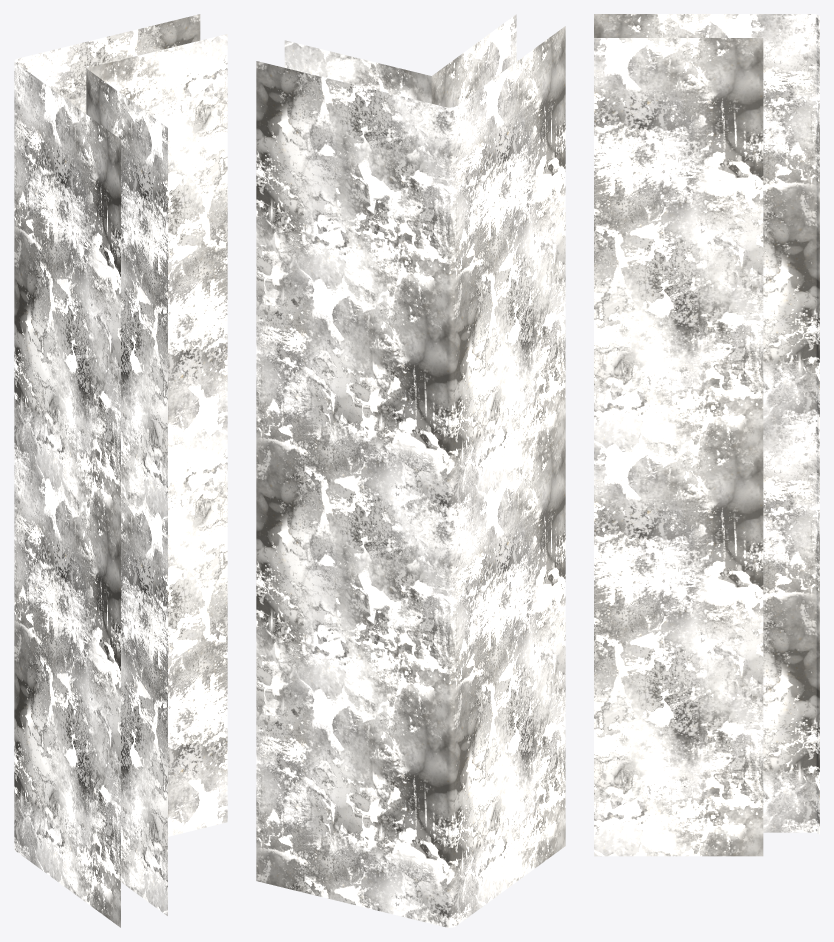
The model's file is SM_wall_A_int_corner_01_01.fbx.
The picture shows the model from 3 angles, left to right: view 1: azimuth 30°, elevation 25°; view 2: azimuth 150°, elevation 25°; view 3: azimuth 270°, elevation 25°; orthographic projection. The views are drawn at different scales.
Visible parts, largest first — view 1: SM_wall_A_int_corner_01_01_LOD0; view 2: SM_wall_A_int_corner_01_01_LOD0; view 3: SM_wall_A_int_corner_01_01_LOD0.
Boxes of the visible parts, box(x1,y1,x2,y2) form: SM_wall_A_int_corner_01_01_LOD0: box(14, 14, 227, 927); SM_wall_A_int_corner_01_01_LOD0: box(256, 14, 565, 927); SM_wall_A_int_corner_01_01_LOD0: box(594, 14, 819, 856).
Size of the model in its own units: 100 by 100 by 400.
1 material, 1 textured.
